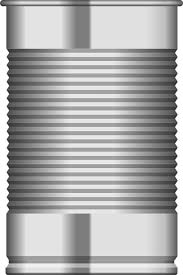can: (1, 1, 180, 275)
